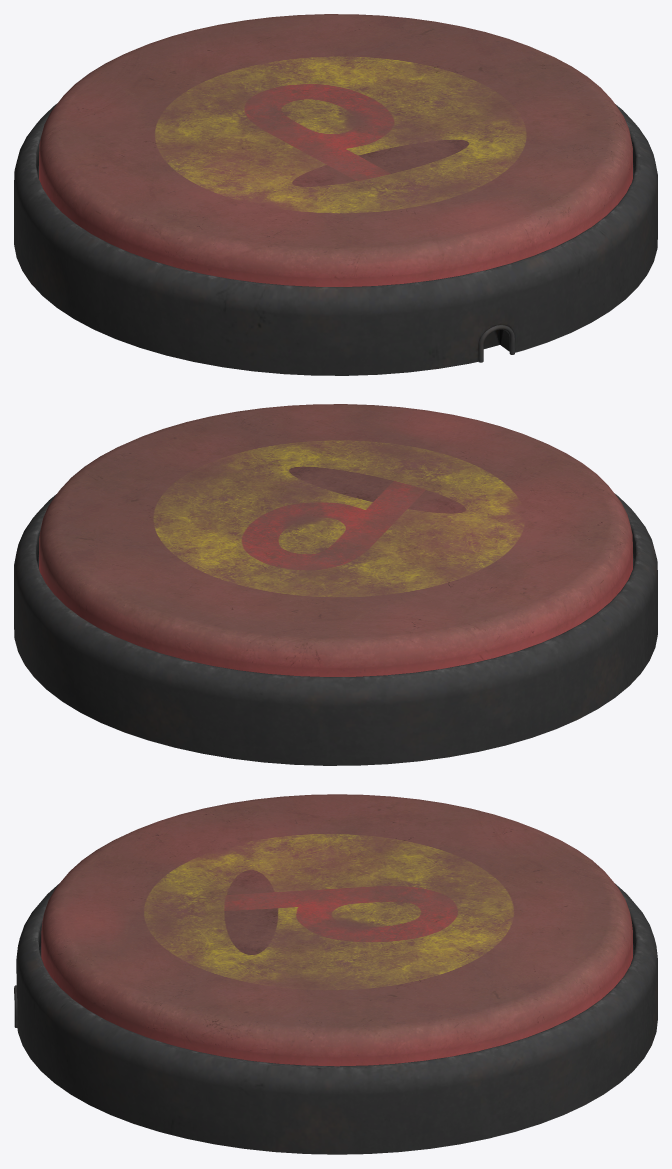
Rendered from p_button.glb.
The picture shows the model from 3 angles, top to bottom: view 1: azimuth 30°, elevation 25°; view 2: azimuth 150°, elevation 25°; view 3: azimuth 270°, elevation 25°; orthographic projection.
Parts seen in each view (by area): view 1: SM_Playhouse_Button_Inner.mo, SM_Playhouse_Button_Outer.mo; view 2: SM_Playhouse_Button_Inner.mo, SM_Playhouse_Button_Outer.mo; view 3: SM_Playhouse_Button_Inner.mo, SM_Playhouse_Button_Outer.mo.
Boxes of the visible parts, x1,y1,x2,y2 form: SM_Playhouse_Button_Inner.mo: [39, 14, 632, 286]; SM_Playhouse_Button_Outer.mo: [14, 103, 657, 375]; SM_Playhouse_Button_Inner.mo: [39, 404, 632, 676]; SM_Playhouse_Button_Outer.mo: [14, 493, 657, 765]; SM_Playhouse_Button_Inner.mo: [41, 794, 632, 1066]; SM_Playhouse_Button_Outer.mo: [14, 883, 657, 1154].
Size of the model in its own units: 2.17 by 0.4012 by 2.18.
2 materials, 2 textured.
